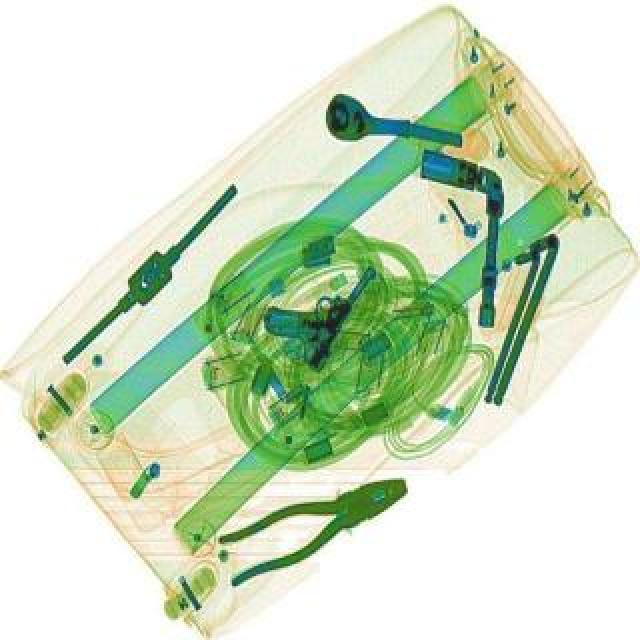gun: (252, 234, 380, 370)
wrench: (210, 460, 424, 588)
